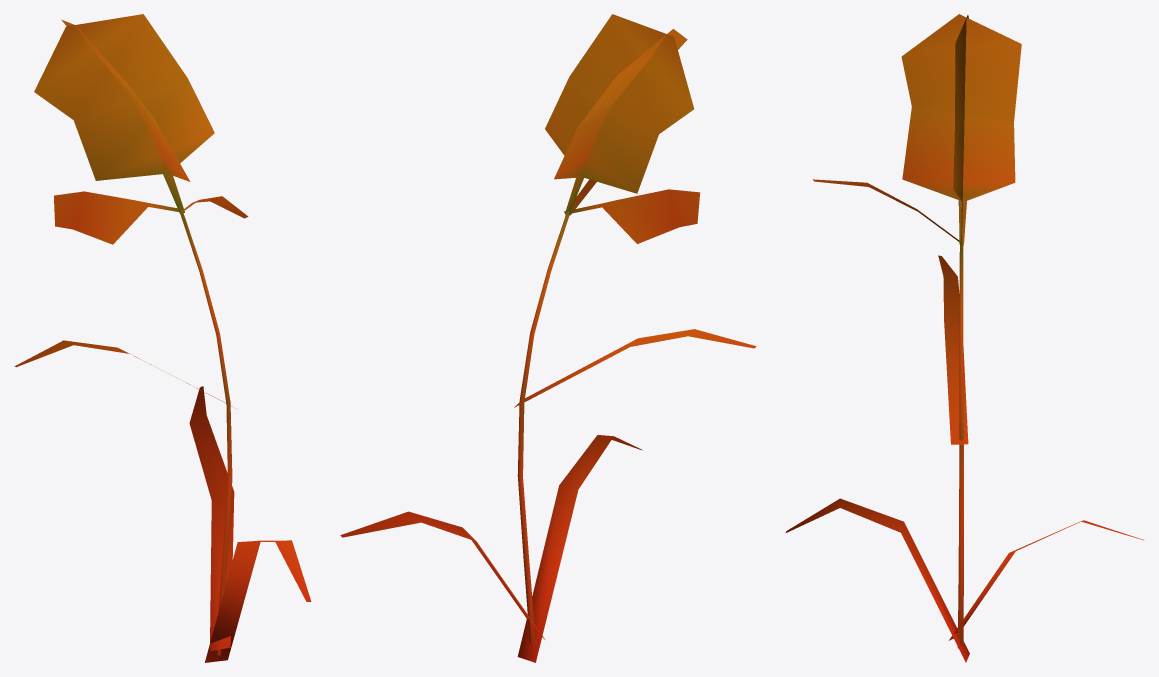
File: SM_OatPlant_8.fbx
The picture shows the model from 3 angles, left to right: view 1: azimuth 30°, elevation 25°; view 2: azimuth 150°, elevation 25°; view 3: azimuth 270°, elevation 25°; orthographic projection. The views are drawn at different scales.
Visible parts, largest first — view 1: SM_OatPlant_8; view 2: SM_OatPlant_8; view 3: SM_OatPlant_8.
Boxes of the visible parts, <box> form: SM_OatPlant_8: <box>14,14,311,662</box>; SM_OatPlant_8: <box>340,14,756,662</box>; SM_OatPlant_8: <box>785,14,1144,662</box>.
Size of the model in its own units: 0.5221 by 1.1 by 0.6141.
